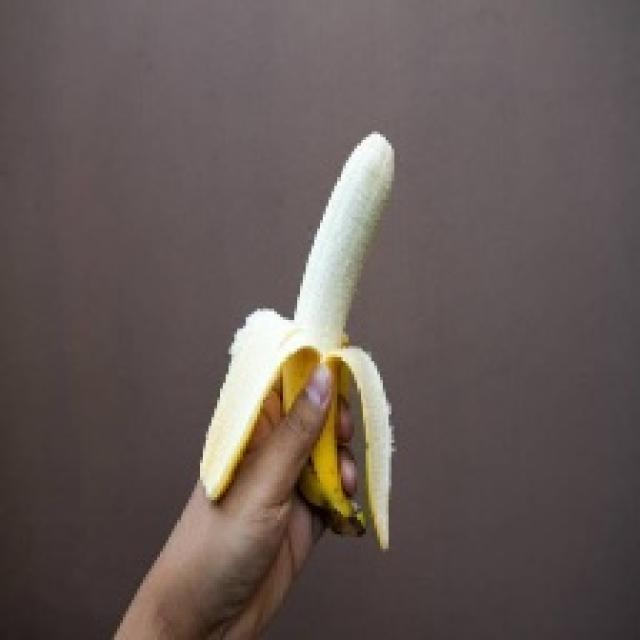Banana: (197, 128, 397, 552)
